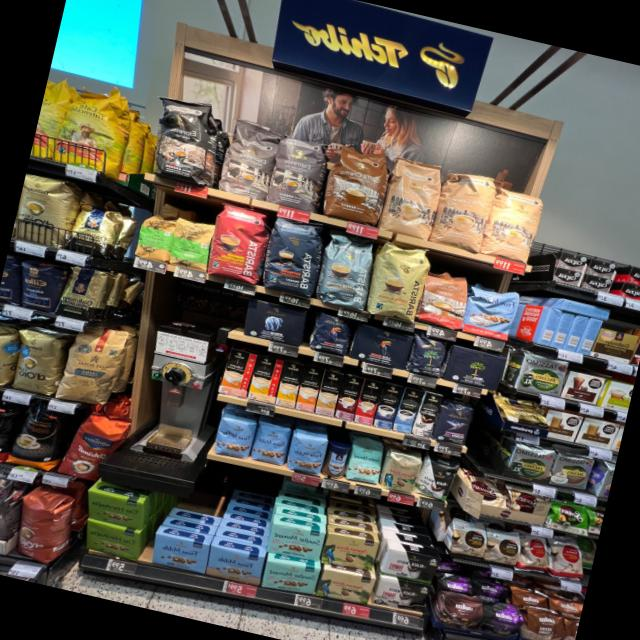AB Gemahlen: (240, 296, 308, 348)
Athiopien Bohne: (132, 210, 177, 263)
Athiopien Gemahlen: (167, 215, 214, 272)
BM Bohne: (406, 334, 448, 380)
BM Gemahlen: (441, 344, 506, 392)
BW Bohne: (412, 456, 460, 504)
BW Gemahlen: (379, 544, 441, 587), (374, 573, 432, 615)
Barista CB: (363, 238, 432, 324)
Barista CC: (314, 228, 378, 312)
Barista Espresso: (258, 213, 328, 297)
Barista Kolumbien: (204, 200, 272, 284)
C Fino Bohne: (432, 398, 476, 447)
CC Mild: (431, 164, 498, 254), (378, 153, 447, 240), (481, 185, 546, 264)
CC Vollmundig: (416, 266, 470, 331)
CC Vollmundig 36 Pads: (320, 140, 393, 227)
Colombia BB Bohne: (378, 448, 425, 496)
Colombia BB Gemahlen: (320, 529, 380, 575), (316, 566, 376, 608)
Espresso Aromatisch: (216, 116, 282, 200)
Espresso Kraftig: (145, 92, 220, 184)
Espresso M Art: (264, 130, 330, 213)
FM 36 Pads: (462, 282, 520, 343)
FM Bohne: (211, 413, 256, 461), (285, 427, 329, 476), (248, 418, 292, 467)
FM Gemahlen: (148, 530, 211, 574), (204, 542, 265, 587)
FM Instant: (321, 440, 351, 480)
Herzhatfe Mundig: (81, 488, 147, 530), (80, 518, 141, 560)
LG Bohne: (308, 311, 353, 357)
LG Gemahlen: (348, 323, 414, 371)
SM Bohne: (342, 434, 387, 486)
SM Gemahlen: (259, 553, 321, 599), (265, 518, 326, 564)
Simo CCMild: (247, 354, 284, 404)
Simo CCMild bigpack: (274, 358, 304, 408)
Simo CCVollmundig: (218, 348, 258, 398)
Simo CCVollmundig bigpack: (294, 363, 324, 412)
Simo Decaff: (314, 368, 342, 416)
Simo Es Brazil: (354, 378, 384, 426)
Simo Es Caramel: (334, 373, 363, 421)
Simo Es Elegant: (411, 391, 443, 438)
Simo Es Kraft: (373, 382, 403, 430)
Simo Es Vanilla: (392, 386, 424, 433)
